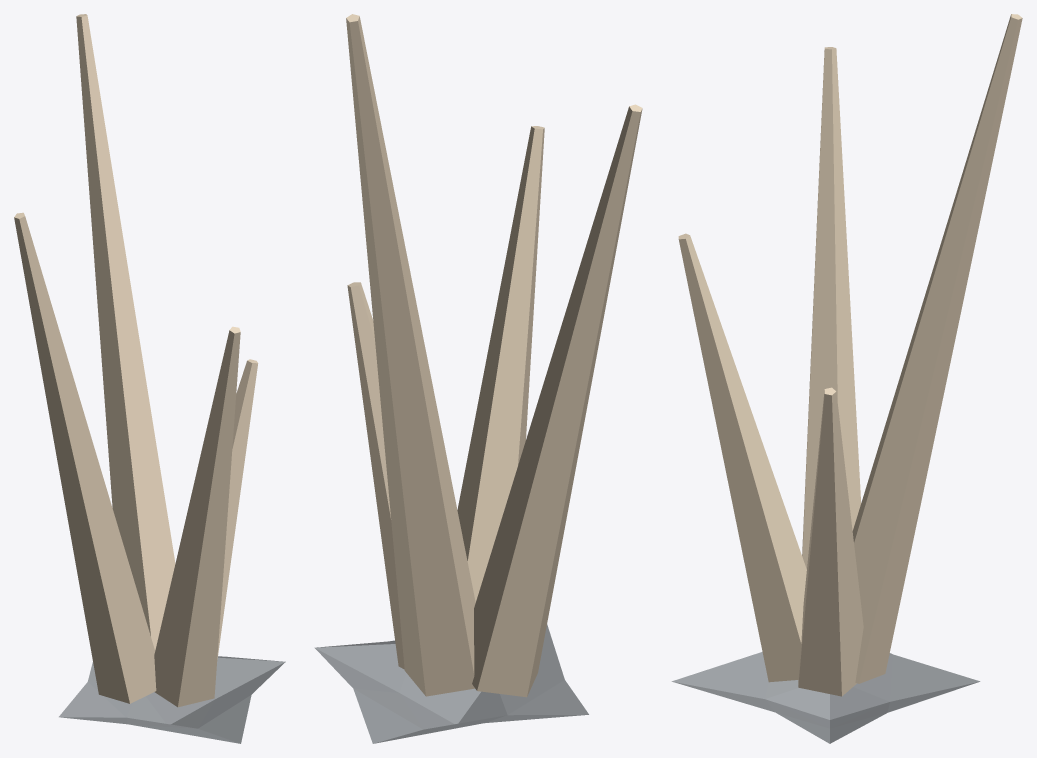
File: crystal_v08.glb
3 views of the same model, side by side, from view 1: azimuth 30°, elevation 25°; view 2: azimuth 150°, elevation 25°; view 3: azimuth 270°, elevation 25° (orthographic). The views are drawn at different scales.
Parts seen in each view (by area): view 1: lod0; view 2: lod0; view 3: lod0.
Part boxes in pixels (x1,y1,x2,y2): lod0: (14, 14, 285, 743); lod0: (314, 14, 642, 743); lod0: (671, 14, 1022, 743).
Size of what is drawn, in the model's own units: 0.7812 by 1.79 by 0.8081.
